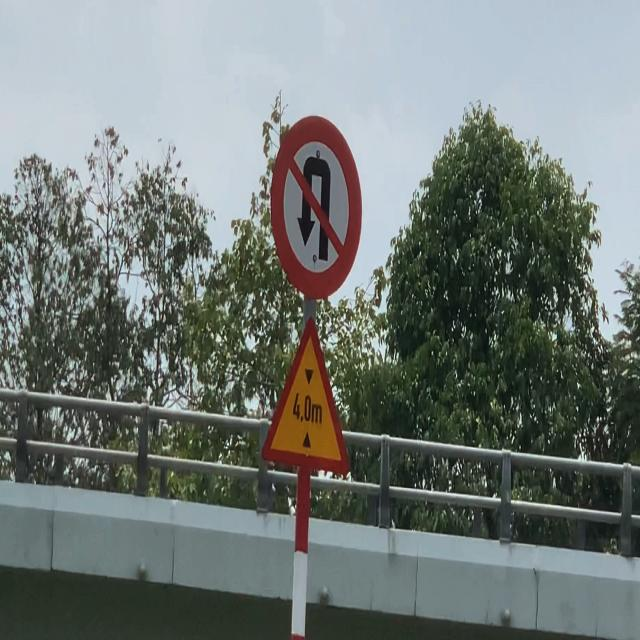Cam quay dau xe: (270, 113, 362, 303)
Nguy hiem: (260, 315, 351, 478)
